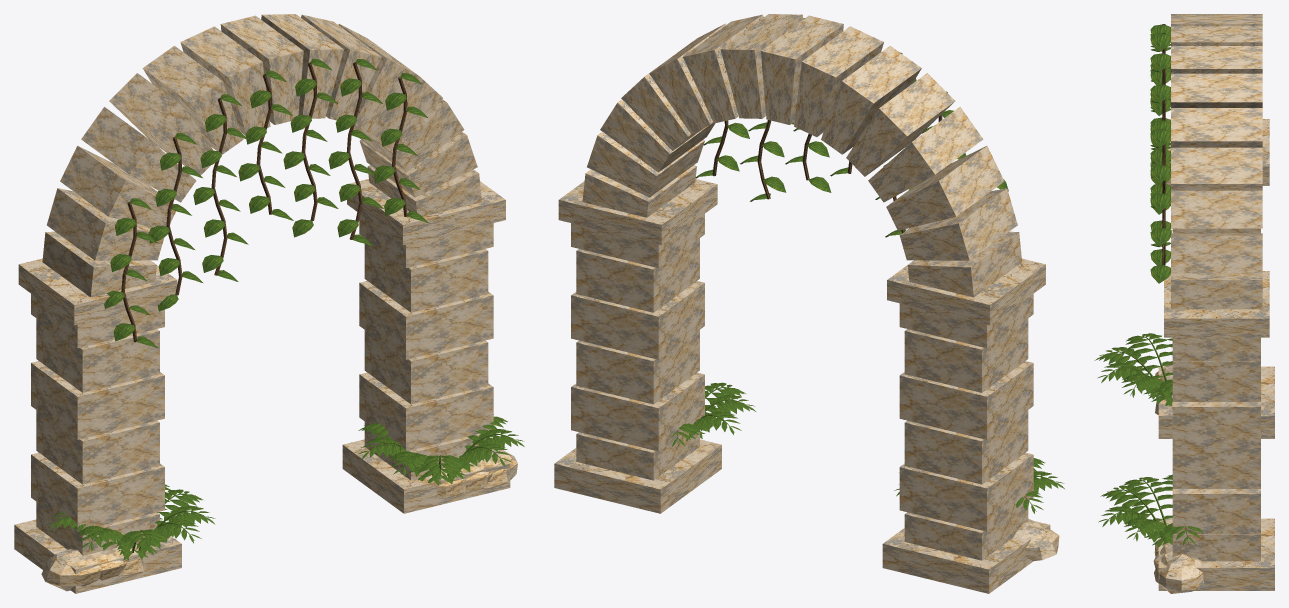
File: TidalSanctuaryArch.fbx
The picture shows the model from 3 angles, left to right: view 1: azimuth 30°, elevation 25°; view 2: azimuth 150°, elevation 25°; view 3: azimuth 270°, elevation 25°; orthographic projection. The views are drawn at different scales.
Parts seen in each view (by area): view 1: TidalSanctuaryArch_LOD0; view 2: TidalSanctuaryArch_LOD0; view 3: TidalSanctuaryArch_LOD0.
Part boxes in pixels (<box>): TidalSanctuaryArch_LOD0: <box>14,14,524,593</box>; TidalSanctuaryArch_LOD0: <box>554,14,1064,593</box>; TidalSanctuaryArch_LOD0: <box>1094,14,1274,593</box>.
Size of what is drawn, in the model's own units: 7.29 by 7.22 by 2.57.
